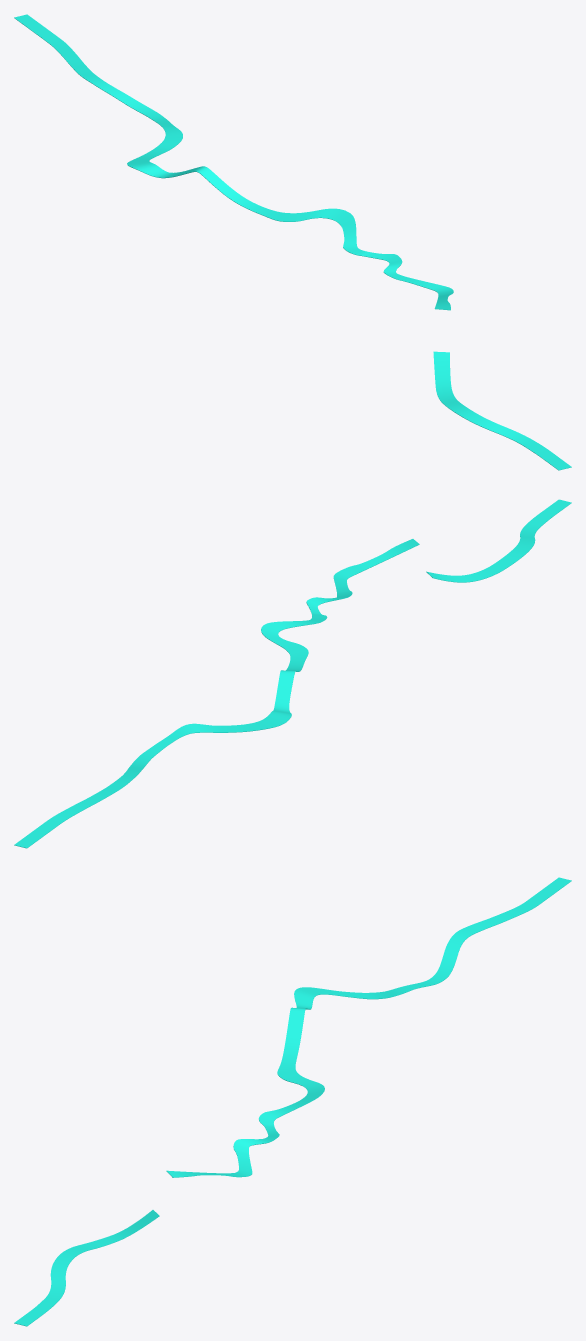
Rendered from Tut_simple.FBX.
3 views of the same model, one above another, from view 1: azimuth 30°, elevation 25°; view 2: azimuth 150°, elevation 25°; view 3: azimuth 330°, elevation 25° (orthographic).
Visible parts, largest first — view 1: Default002; view 2: Default002; view 3: Default002.
Part boxes in pixels (left/top/right/bottom): Default002: left=14, top=14, right=571, bottom=470; Default002: left=14, top=499, right=571, bottom=848; Default002: left=14, top=877, right=571, bottom=1326.
Bounding box in the file's own units: 14094 × 7252 × 97523.
